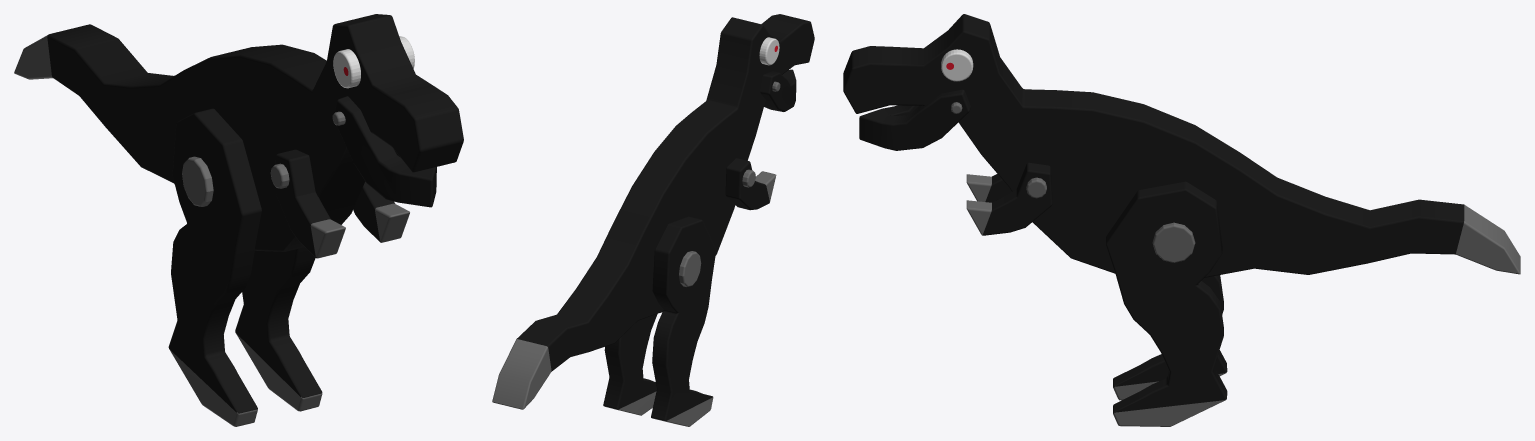
File: tyranosaurBurned.fbx
3 views of the same model, side by side, from view 1: azimuth 30°, elevation 25°; view 2: azimuth 150°, elevation 25°; view 3: azimuth 270°, elevation 25° (orthographic). The views are drawn at different scales.
Visible parts, largest first — view 1: WoodenToyTyranosaur, WoodenToyTyranosaurLegs, WoodenToyTyranosaurLegs.001, WoodenToyTyranosaurMouth; view 2: WoodenToyTyranosaur, WoodenToyTyranosaurLegs, WoodenToyTyranosaurLegs.001, WoodenToyTyranosaurMouth; view 3: WoodenToyTyranosaur, WoodenToyTyranosaurLegs, WoodenToyTyranosaurLegs.001, WoodenToyTyranosaurMouth.
Boxes of the visible parts, box(x1,y1,x2,y2) form: WoodenToyTyranosaur: box(14, 14, 463, 251); WoodenToyTyranosaurLegs: box(168, 108, 322, 426); WoodenToyTyranosaurLegs.001: box(270, 149, 409, 258); WoodenToyTyranosaurMouth: box(332, 96, 436, 207); WoodenToyTyranosaur: box(492, 14, 814, 409); WoodenToyTyranosaurLegs: box(603, 216, 716, 426); WoodenToyTyranosaurLegs.001: box(725, 158, 776, 210); WoodenToyTyranosaurMouth: box(760, 69, 796, 111); WoodenToyTyranosaur: box(843, 14, 1520, 277); WoodenToyTyranosaurLegs: box(1106, 181, 1227, 426); WoodenToyTyranosaurLegs.001: box(966, 162, 1052, 235); WoodenToyTyranosaurMouth: box(859, 89, 970, 150).
Bounding box in the file's own units: 0.9405 × 4.16 × 6.58.
